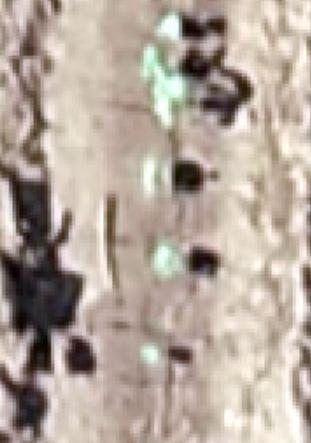cotton: (157, 75, 187, 106), (153, 247, 182, 276), (158, 10, 182, 38), (137, 47, 164, 70), (145, 162, 158, 191), (143, 347, 163, 363)
